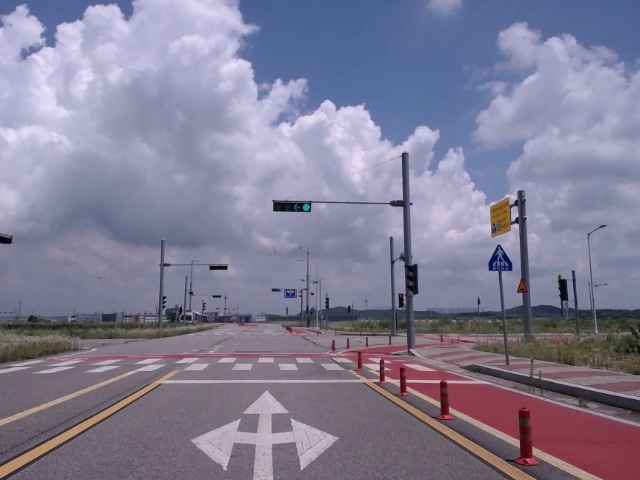all_green_4: (269, 197, 315, 215)
